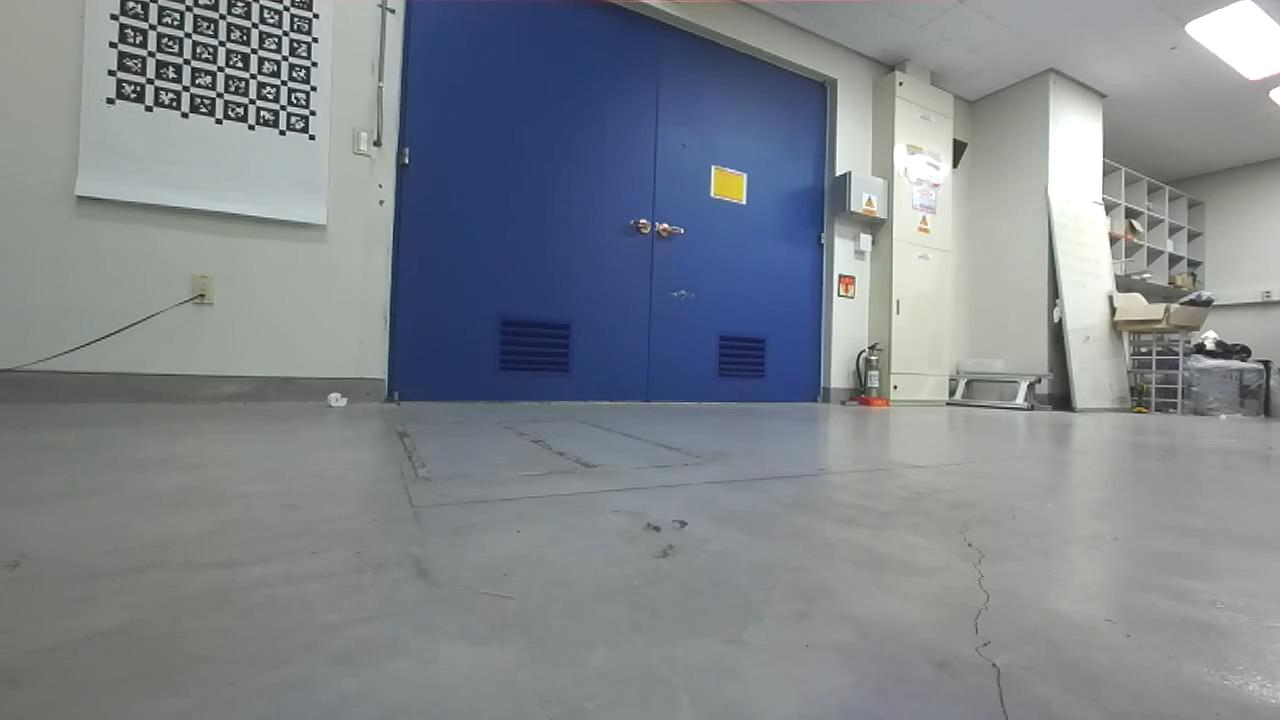crazyflie: (658, 284, 707, 305)
